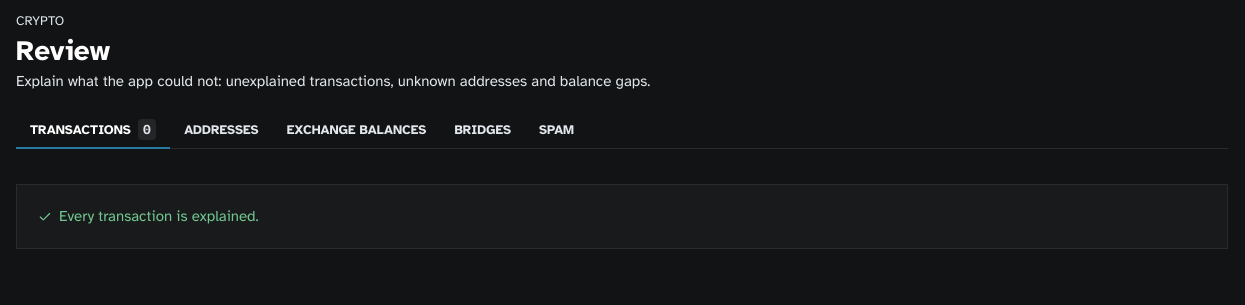
unknown counterparty triage › shows a loading state, not a load failure, while the queues are still on their way
This screenshot has width=1245, height=305.
Click the tab "Addresses": (221, 131) [170,114,273,149]
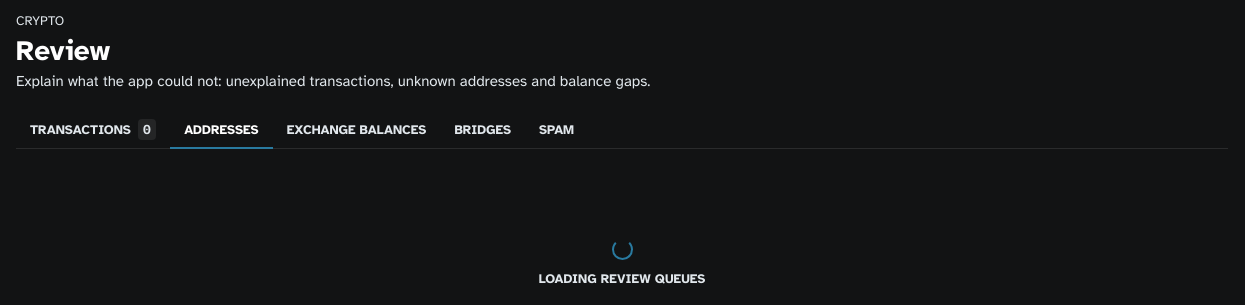
Now the text "Loading review queues" is shown, box [539,270,705,289]
